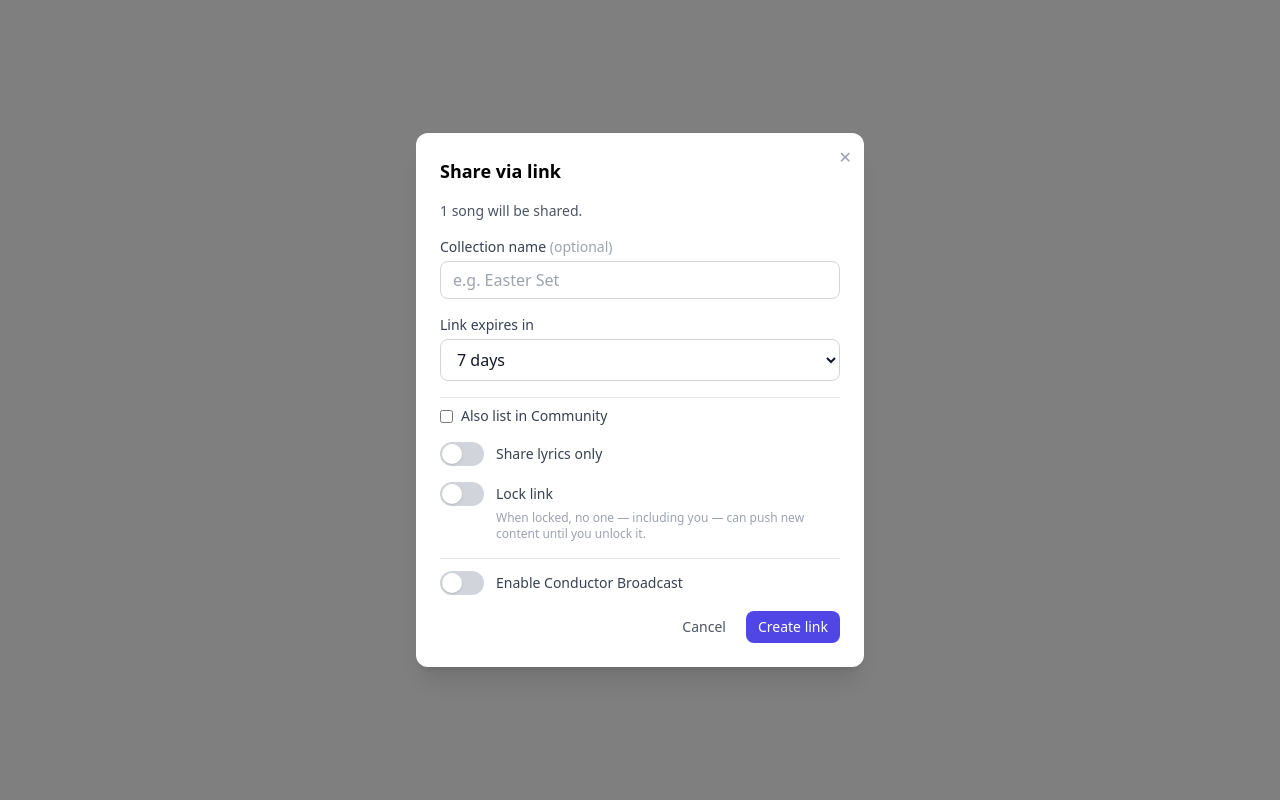
Test case: ShareModal — community publish › requires the copyright acknowledgement before it will publish
Click the checkbox labelled "Also list in Community" at (446, 416), box x1=440 y1=410 x2=453 y2=422
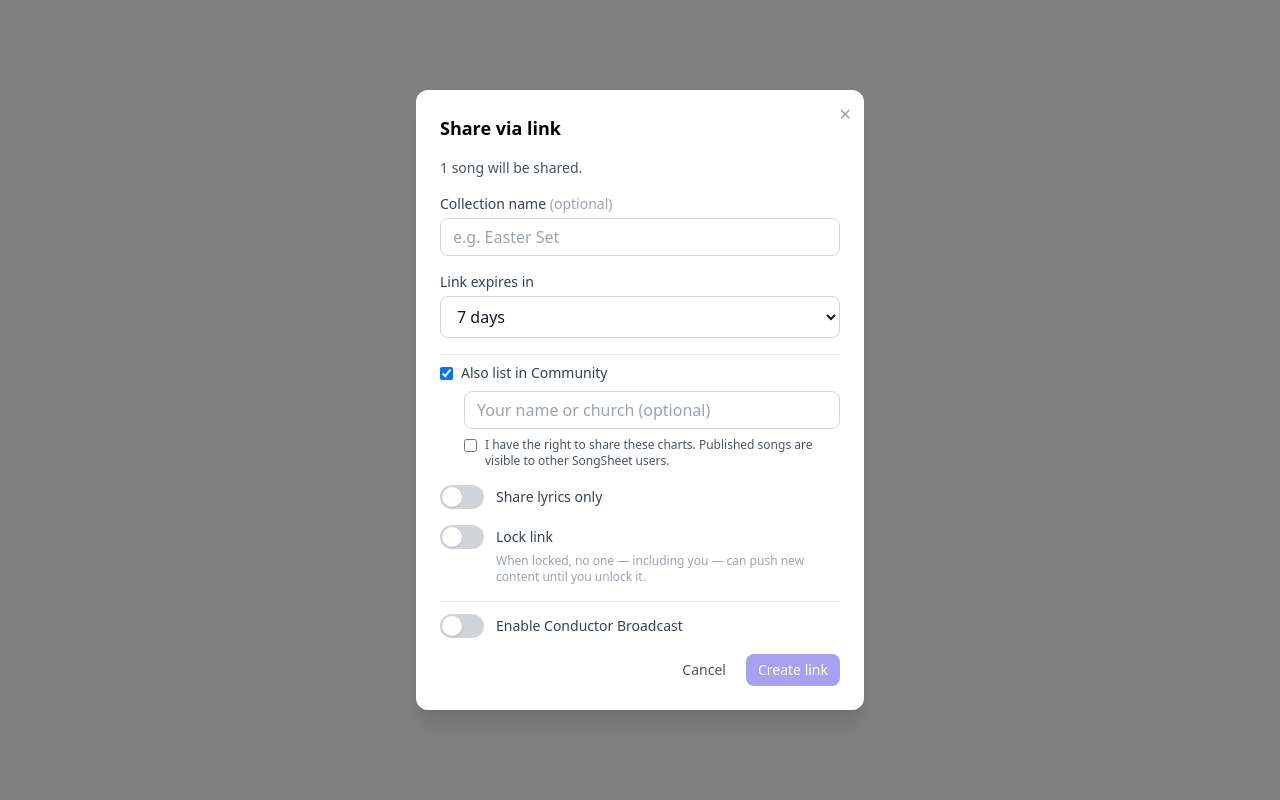
Now the button "Create link" is disabled, box x1=746 y1=654 x2=840 y2=686
